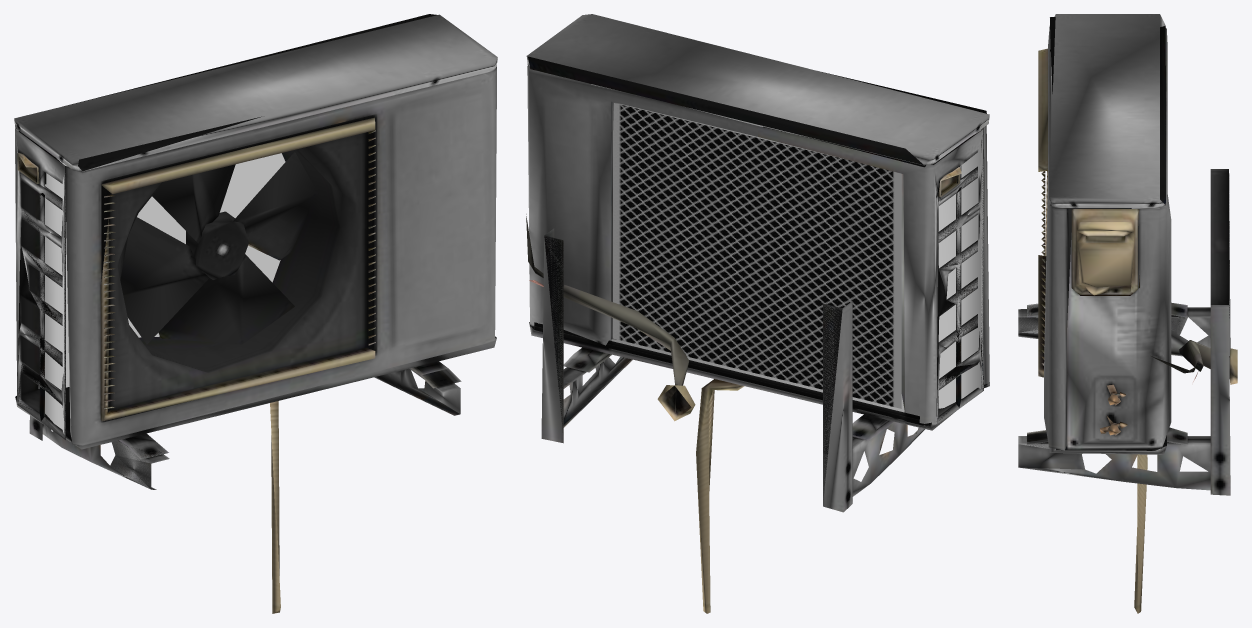
Rendered from aircon.glb.
3 views of the same model, side by side, from view 1: azimuth 30°, elevation 25°; view 2: azimuth 150°, elevation 25°; view 3: azimuth 270°, elevation 25° (orthographic). The views are drawn at different scales.
Visible parts, largest first — view 1: exterior_aircon_unit; view 2: exterior_aircon_unit; view 3: exterior_aircon_unit.
Boxes of the visible parts, x1,y1,x2,y2 form: exterior_aircon_unit: [14, 14, 497, 613]; exterior_aircon_unit: [526, 14, 989, 613]; exterior_aircon_unit: [1018, 14, 1237, 613].
Bounding box in the file's own units: 0.7953 × 0.9225 × 0.3742.
2 materials, 2 textured.
